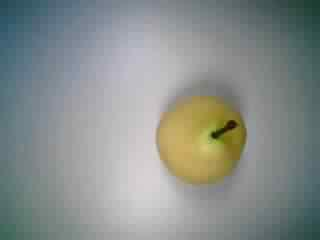pear: (150, 87, 249, 190)
